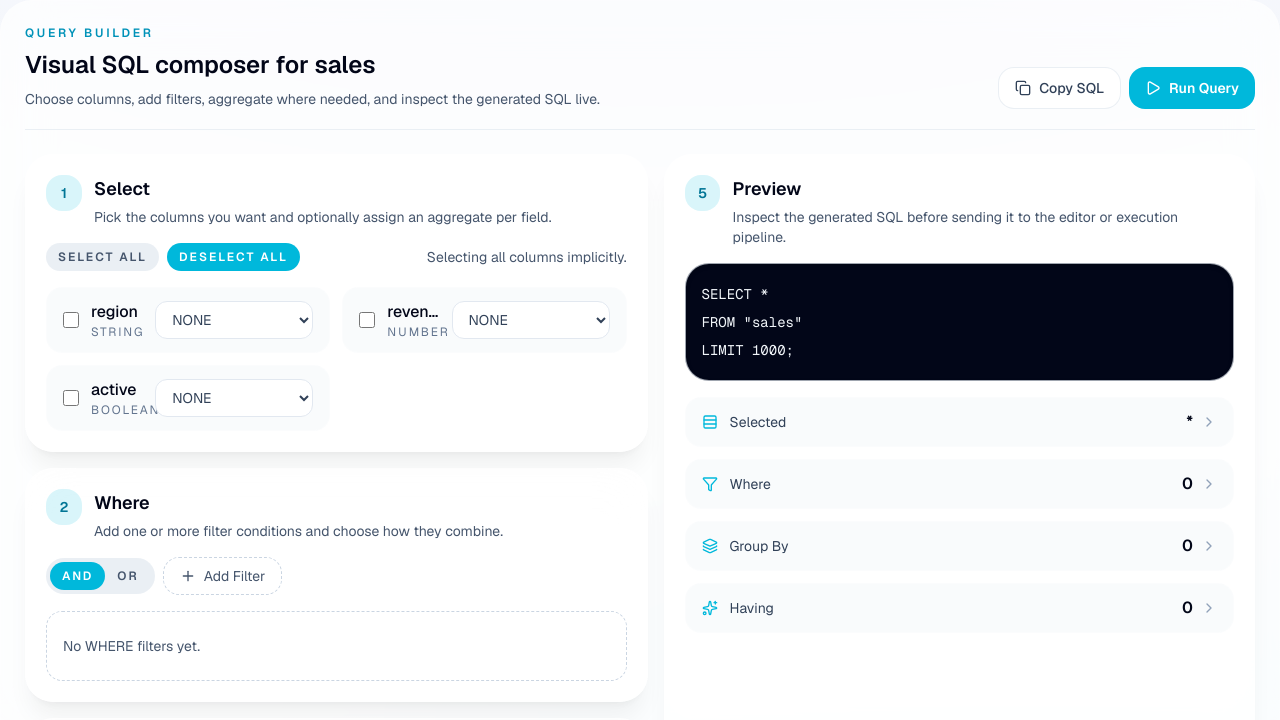
Test: QueryBuilder › copies the generated SQL to the clipboard
Step 1. Click the button "Copy SQL" → (1060, 88), box [998,67,1121,109]
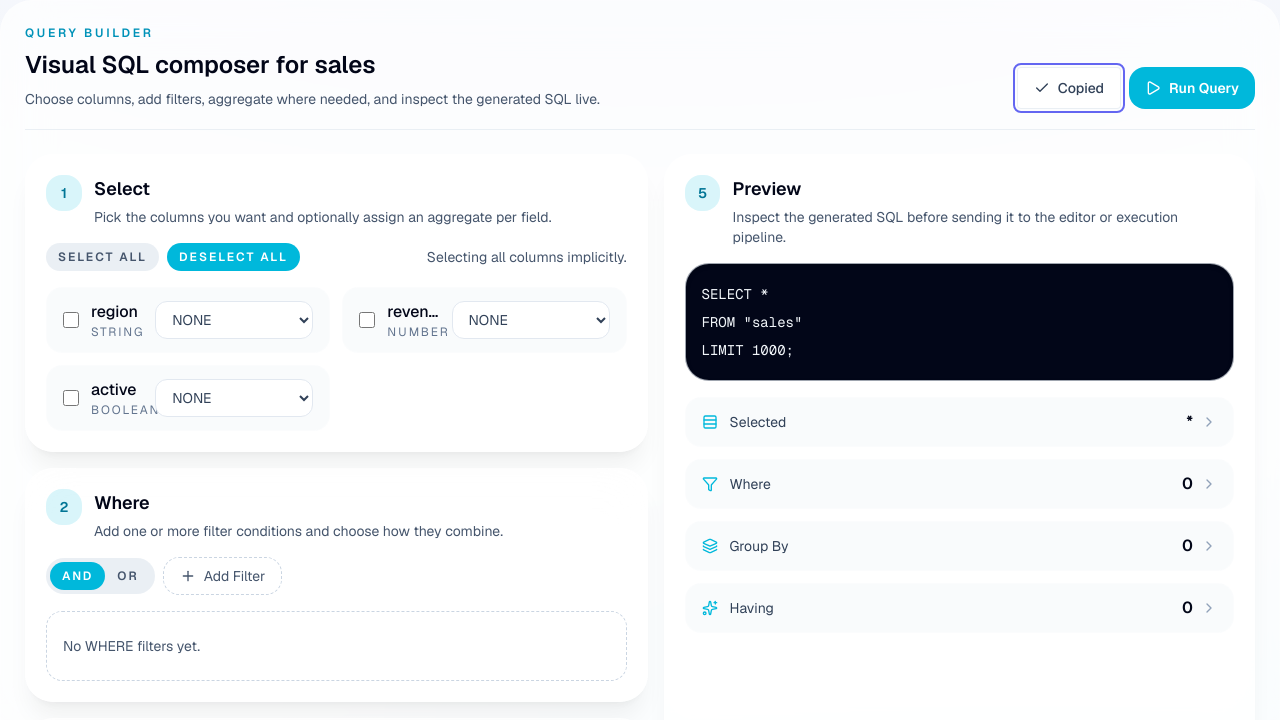
Now the button "Copied" is shown, box [1017,67,1121,109]
